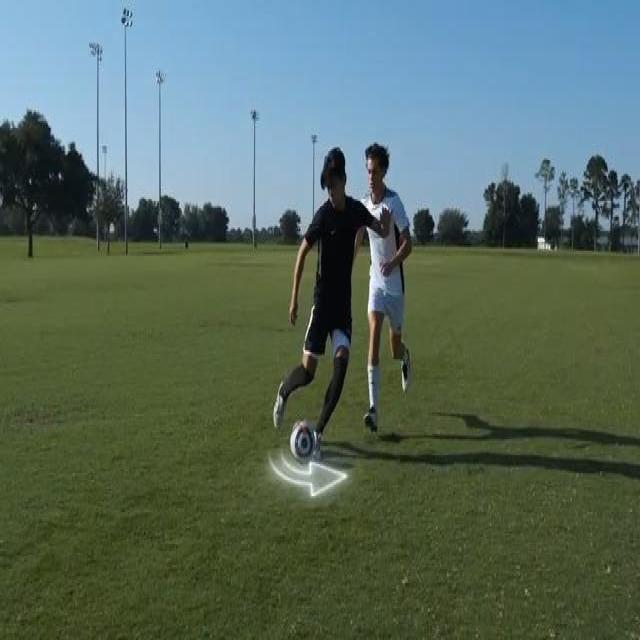Soccer Ball: (290, 418, 316, 468)
